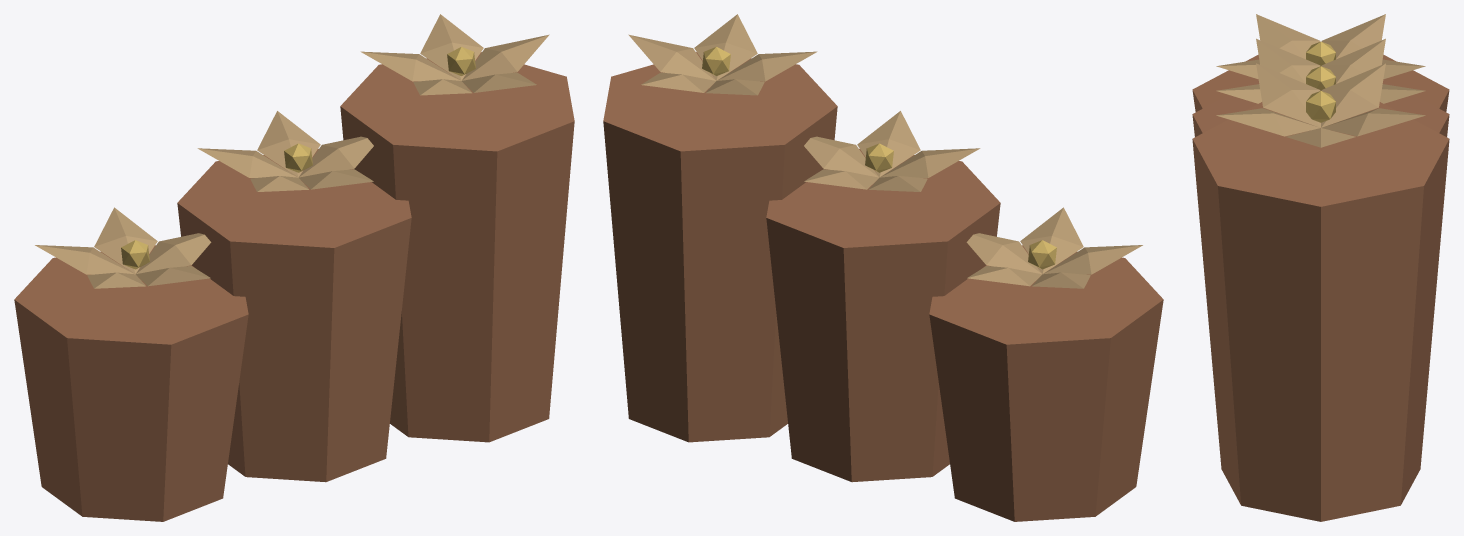
File: map-boundaries-v5__village_08.glb
The picture shows the model from 3 angles, left to right: view 1: azimuth 30°, elevation 25°; view 2: azimuth 150°, elevation 25°; view 3: azimuth 270°, elevation 25°; orthographic projection. The views are drawn at different scales.
Parts seen in each view (by area): view 1: village_08; view 2: village_08; view 3: village_08.
Part boxes in pixels (left/top/right/bottom): village_08: left=14, top=14, right=574, bottom=521; village_08: left=603, top=14, right=1163, bottom=521; village_08: left=1192, top=14, right=1449, bottom=521.
Bounding box in the file's own units: 1.55 × 1.01 × 0.6045.
